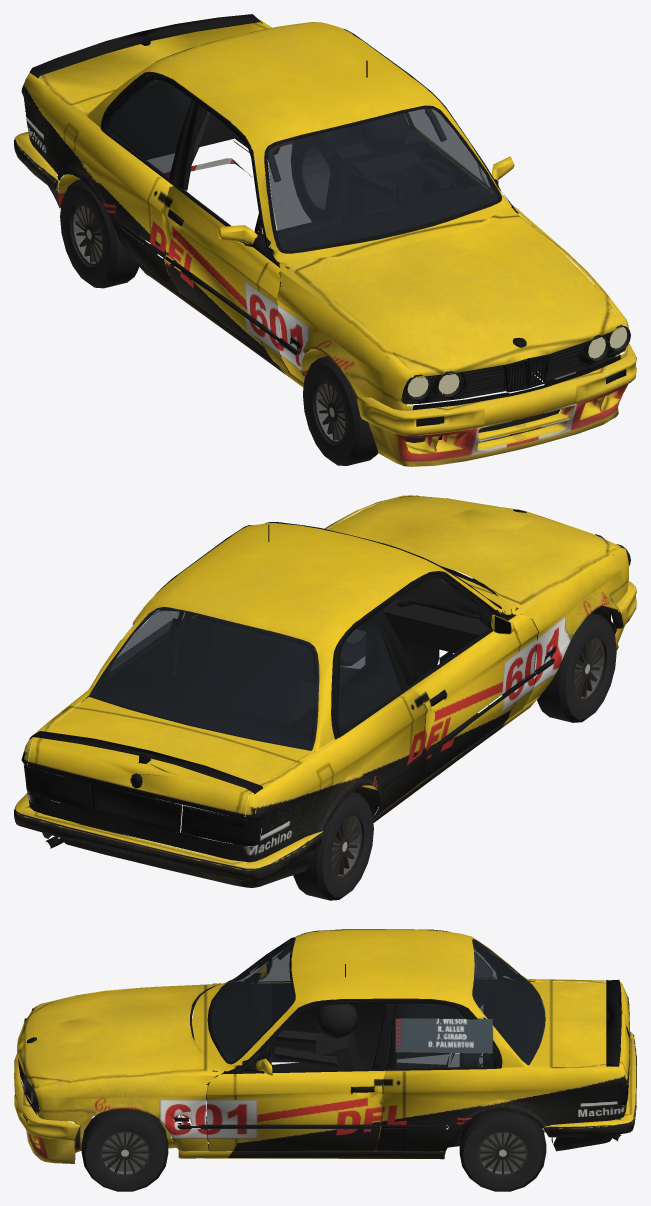
3 views of the same model, one above another, from view 1: azimuth 30°, elevation 25°; view 2: azimuth 150°, elevation 25°; view 3: azimuth 270°, elevation 25° (orthographic). The views are drawn at different scales.
Visible parts, largest first — view 1: body, wheel_fr, wheel_rr, wheel_rl; view 2: body, wheel_fr, wheel_rr, wheel_fl; view 3: body, wheel_fl, wheel_rl.
Boxes of the visible parts, x1,y1,x2,y2 form: body: [14, 14, 636, 466]; wheel_fr: [303, 356, 377, 465]; wheel_rr: [60, 179, 142, 288]; wheel_rl: [291, 131, 333, 221]; body: [14, 495, 636, 887]; wheel_fr: [535, 613, 616, 722]; wheel_rr: [293, 791, 373, 900]; wheel_fl: [332, 629, 365, 666]; body: [14, 929, 636, 1163]; wheel_fl: [81, 1108, 168, 1191]; wheel_rl: [459, 1111, 546, 1191].
Bounding box in the file's own units: 1.79 × 1.49 × 4.24.
Materials: 2 (1 with a texture image).
